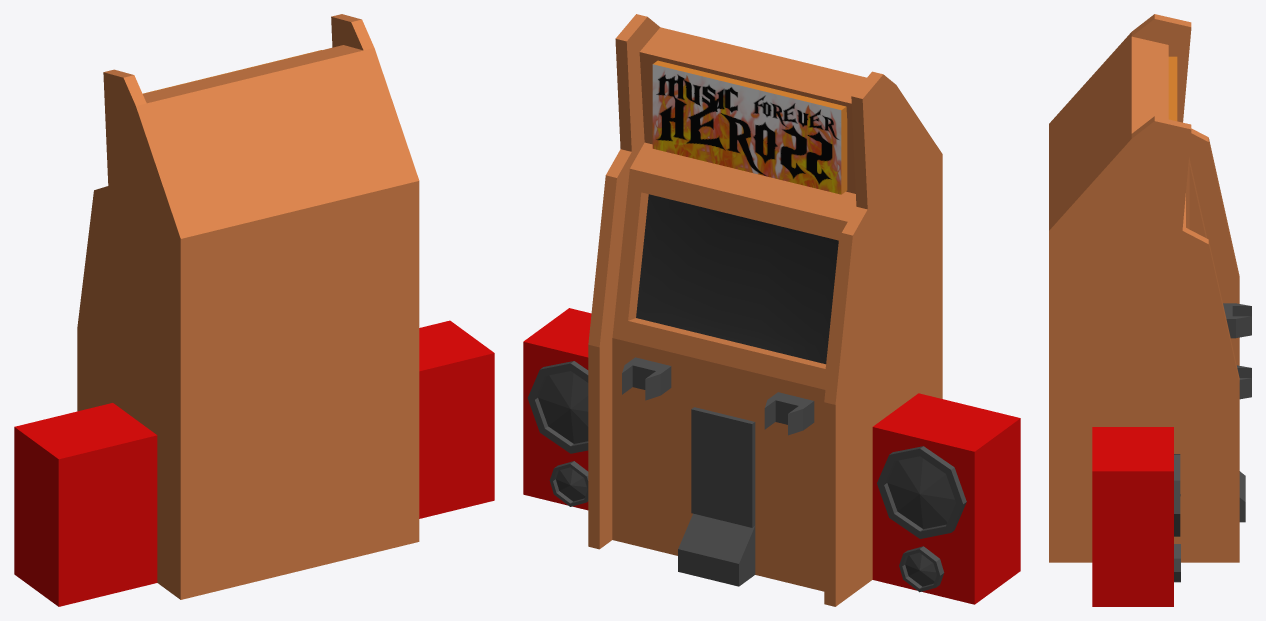
The model's file is GHMach.fbx.
3 views of the same model, side by side, from view 1: azimuth 30°, elevation 25°; view 2: azimuth 150°, elevation 25°; view 3: azimuth 270°, elevation 25° (orthographic). The views are drawn at different scales.
Parts seen in each view (by area): view 1: Cube; view 2: Cube, Cube.001; view 3: Cube, Cube.001.
Part boxes in pixels (box(x1,y1,x2,y2)): Cube: box(14, 14, 494, 606); Cube: box(523, 14, 1020, 606); Cube.001: box(652, 60, 847, 194); Cube: box(1049, 14, 1251, 606); Cube.001: box(1168, 56, 1177, 121).
Bounding box in the file's own units: 1119 × 1178 × 490.
